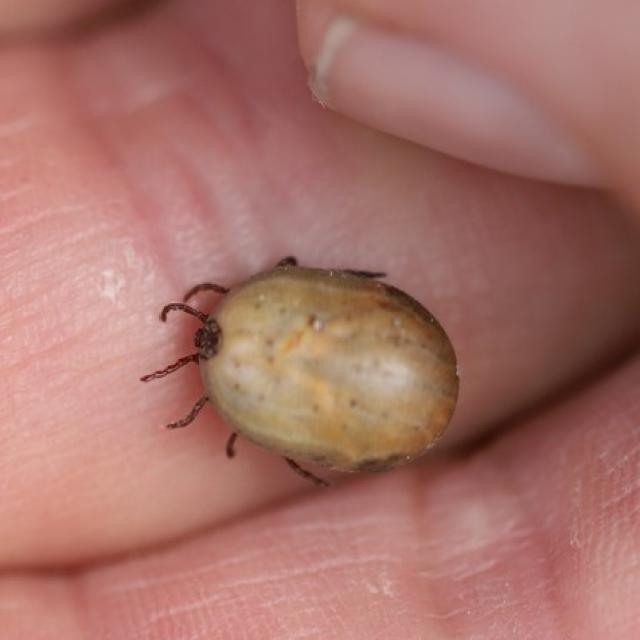Dermacentor Reticulatus-F-Fed: (140, 256, 458, 487)
